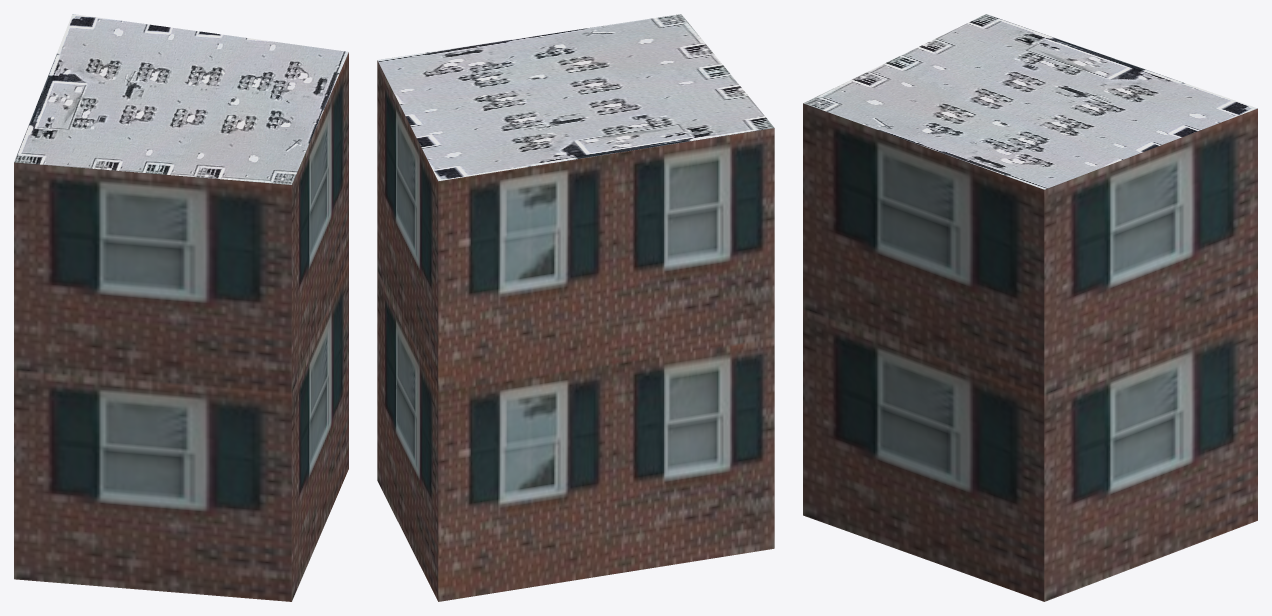
File: ResTex__4437.fbx
The picture shows the model from 3 angles, left to right: view 1: azimuth 30°, elevation 25°; view 2: azimuth 150°, elevation 25°; view 3: azimuth 270°, elevation 25°; orthographic projection. The views are drawn at different scales.
Visible parts, largest first — view 1: CityEngineMaterial_14_m, CityEngineMaterial_8_m; view 2: CityEngineMaterial_14_m, CityEngineMaterial_8_m; view 3: CityEngineMaterial_14_m, CityEngineMaterial_8_m.
Part boxes in pixels (x1,y1,x2,y2): CityEngineMaterial_14_m: (14,52,348,601); CityEngineMaterial_8_m: (14,14,348,184); CityEngineMaterial_14_m: (377,60,774,601); CityEngineMaterial_8_m: (377,14,774,181); CityEngineMaterial_14_m: (803,103,1257,601); CityEngineMaterial_8_m: (803,14,1257,189).
Bounding box in the file's own units: 5.49 × 6 × 6.
Materials: 2 (2 with a texture image).
